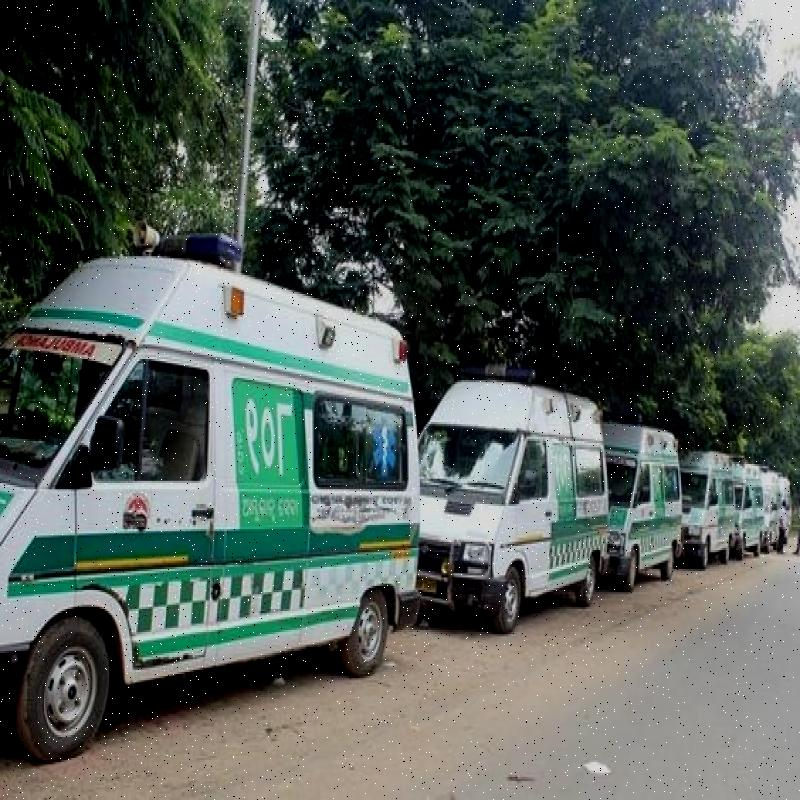ambulance: (2, 264, 415, 740), (431, 370, 614, 629)
